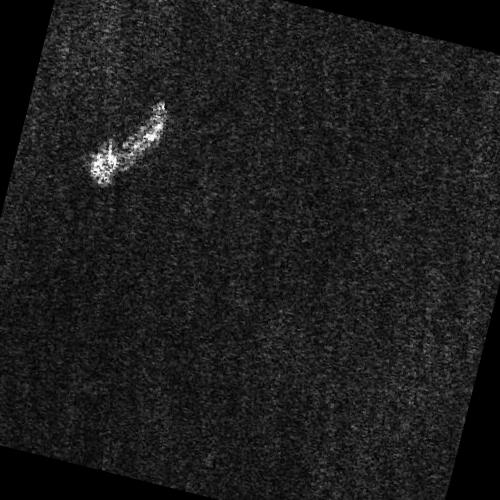ship: (89, 104, 167, 185)
